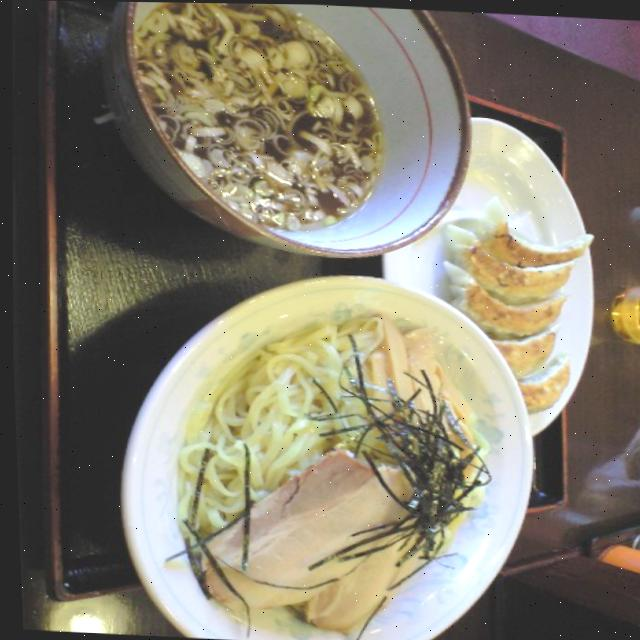面条主食: (82, 1, 609, 640)
